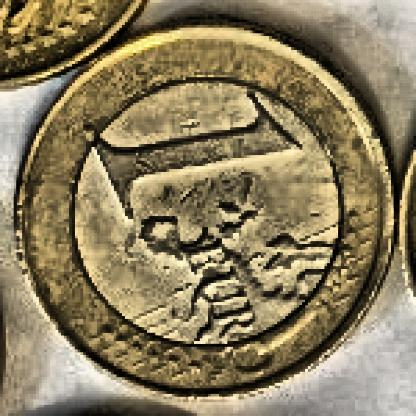coin: (14, 27, 397, 402)
